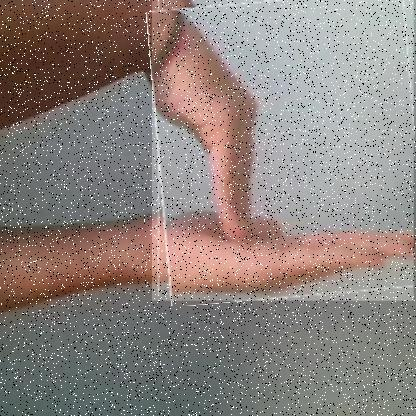Z: (152, 0, 415, 302)
